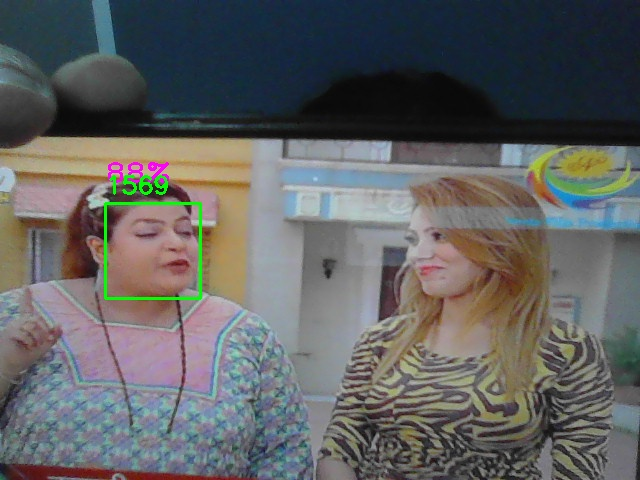fake: (105, 203, 201, 299)
